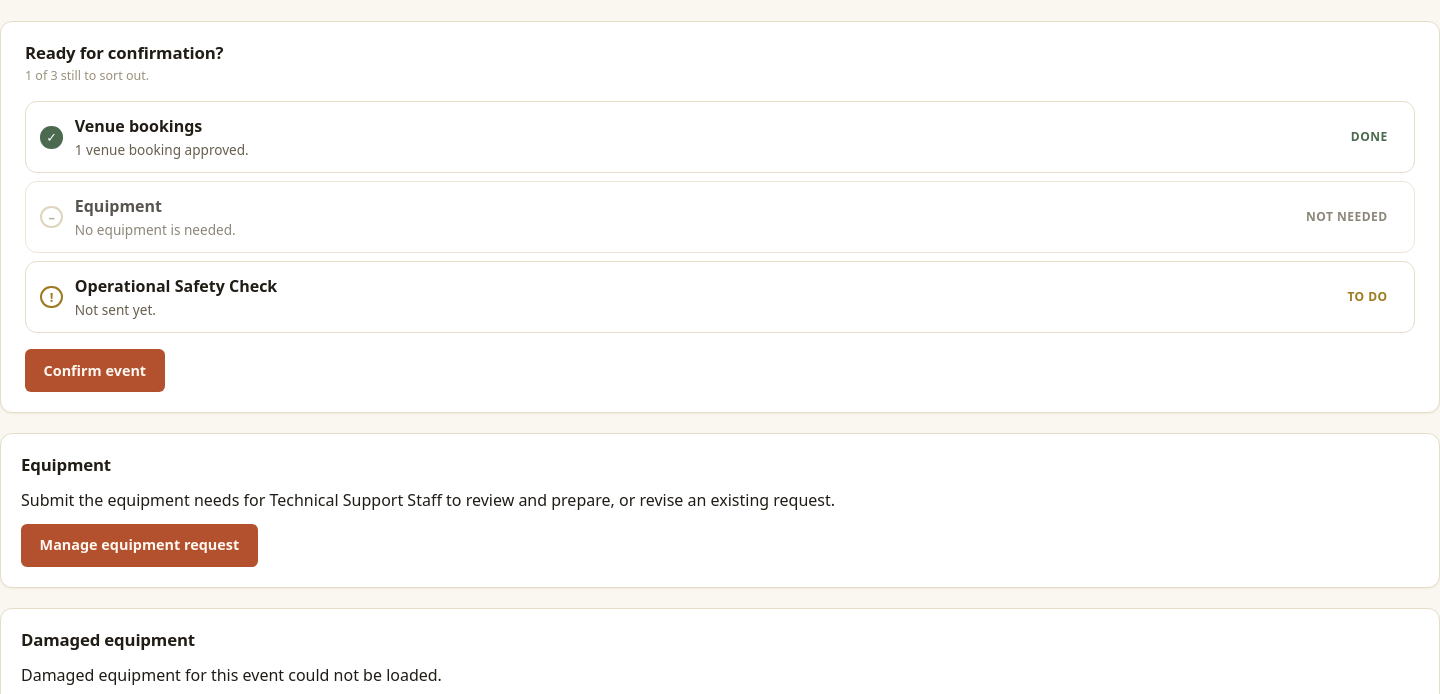
it: EC08 readiness, send for safety review, withdraw and confirm › EC08 AC29, AC36, EC-NEW2 AC23 (conflict): confirms once the safety check is approved, and shows a server refusal plainly
The width and height of the screenshot is (1440, 694).
(page scrolled)
Click the button "Confirm event". click: (95,371)
box: [25,349,165,392]
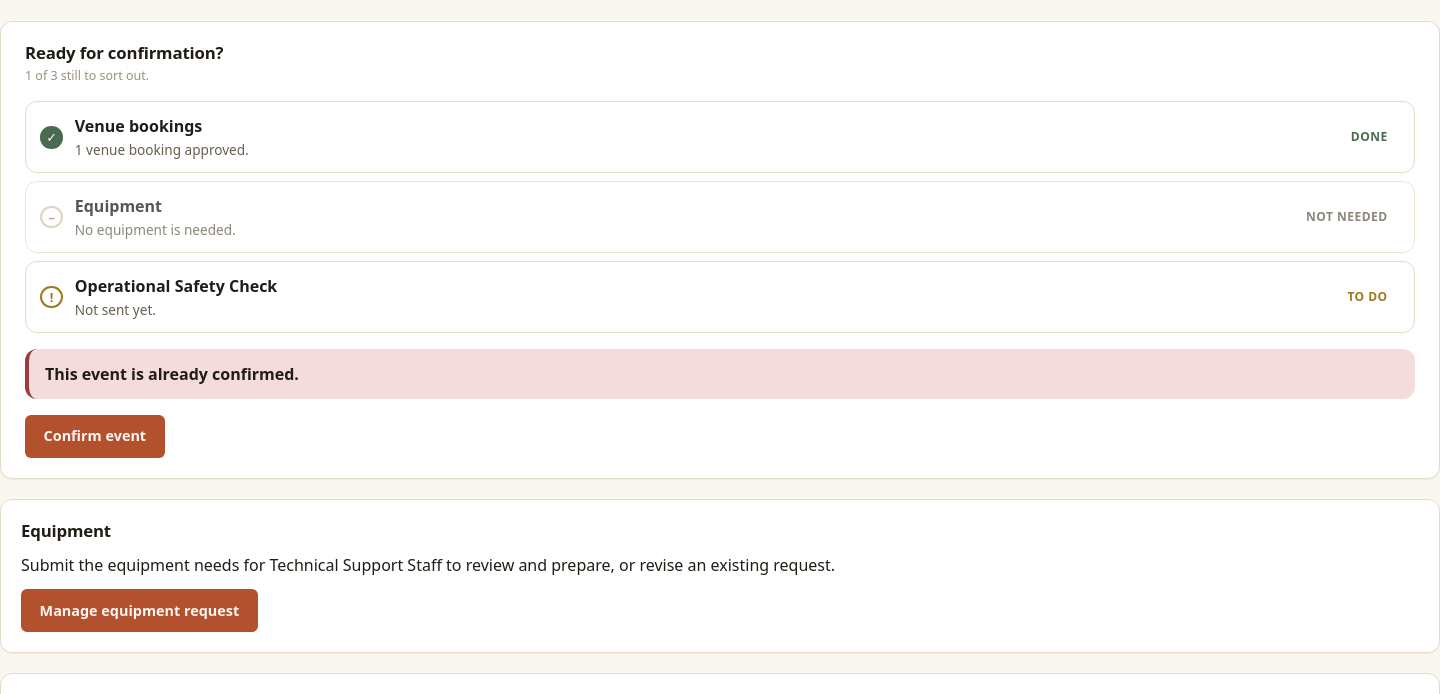
Check: the message "This event is already confirmed." is shown, box [25,349,1415,399]
Click the button "Confirm event". click: (95,436)
box: [25,415,165,458]
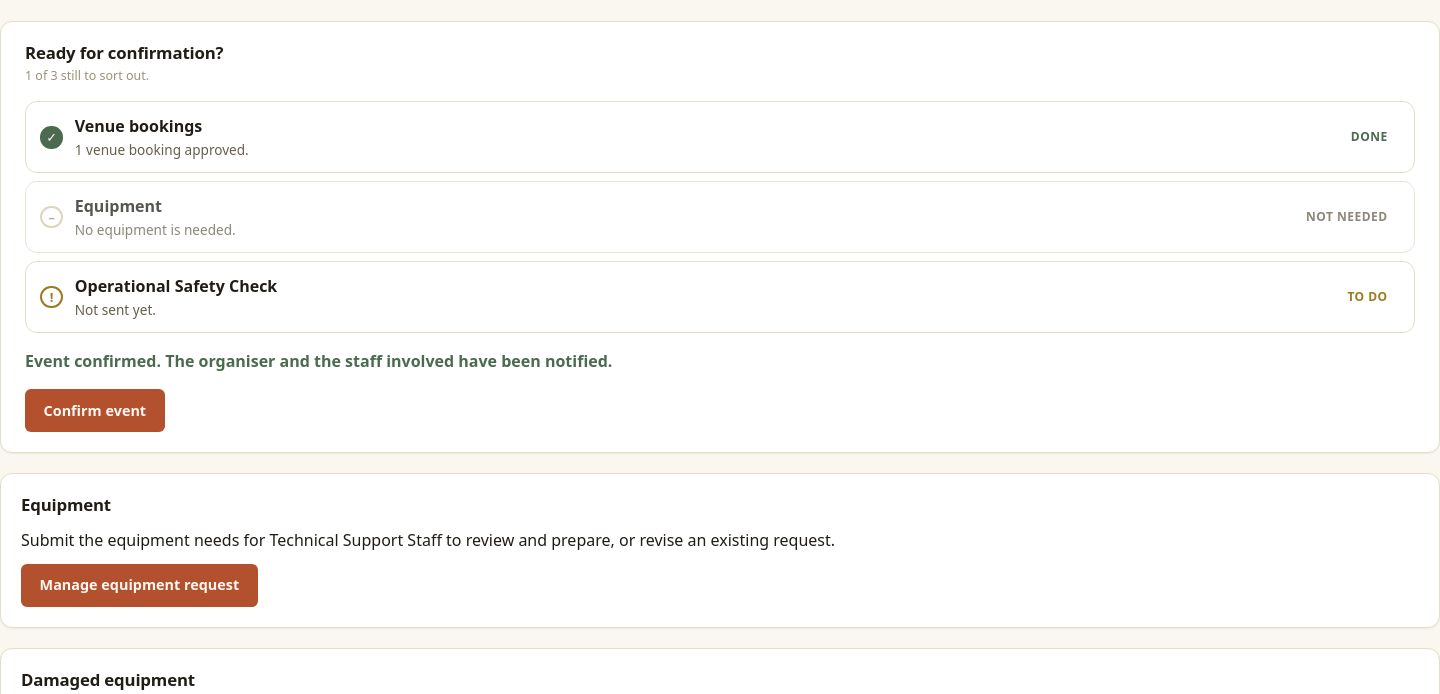
Check: the text "Event confirmed. The organiser and the staff involved have been notified." is shown, box [25,350,612,372]
